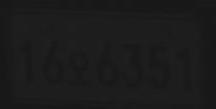1: (172, 45, 195, 93), (16, 40, 38, 80)
3: (120, 43, 145, 86)
5: (148, 42, 171, 89)
6: (91, 43, 118, 88), (41, 41, 64, 85)
오: (67, 50, 91, 86)
